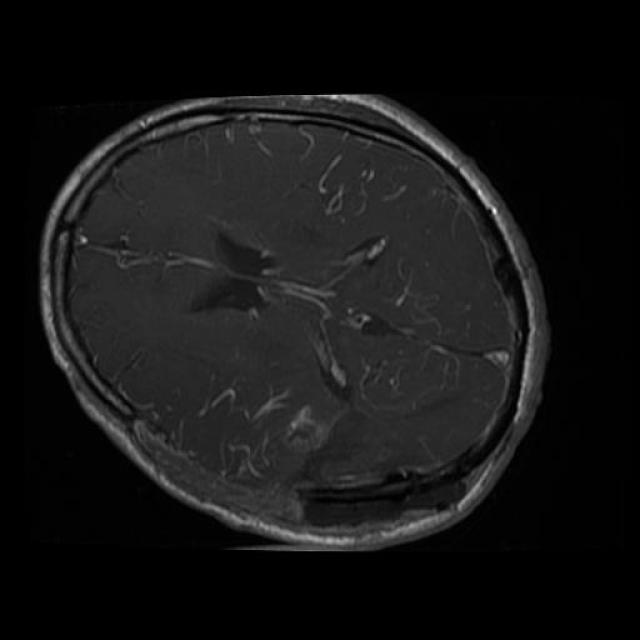Glioma: (133, 388, 337, 534)
